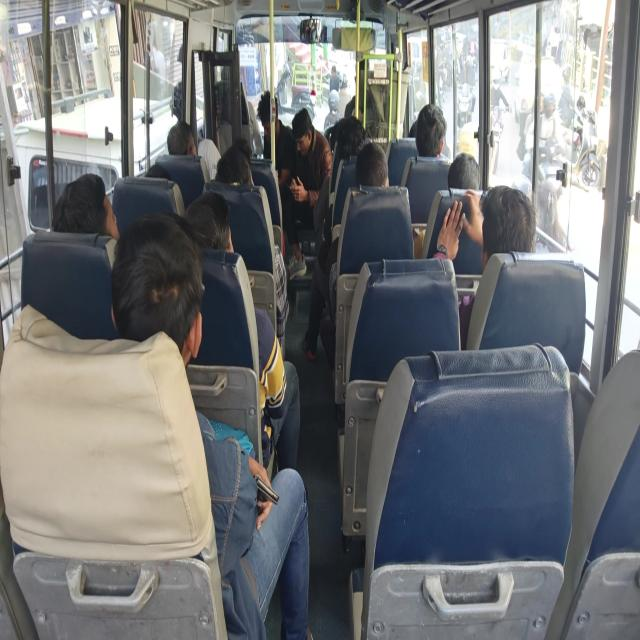person: (107, 217, 233, 340), (49, 162, 133, 249), (178, 199, 250, 256), (474, 186, 526, 264), (205, 149, 268, 203), (412, 89, 448, 166), (164, 119, 205, 185), (164, 83, 216, 133), (441, 148, 484, 202), (288, 103, 316, 167), (354, 148, 392, 195), (249, 92, 283, 140), (144, 162, 178, 204), (340, 110, 368, 153), (226, 132, 261, 164), (402, 118, 426, 146)
